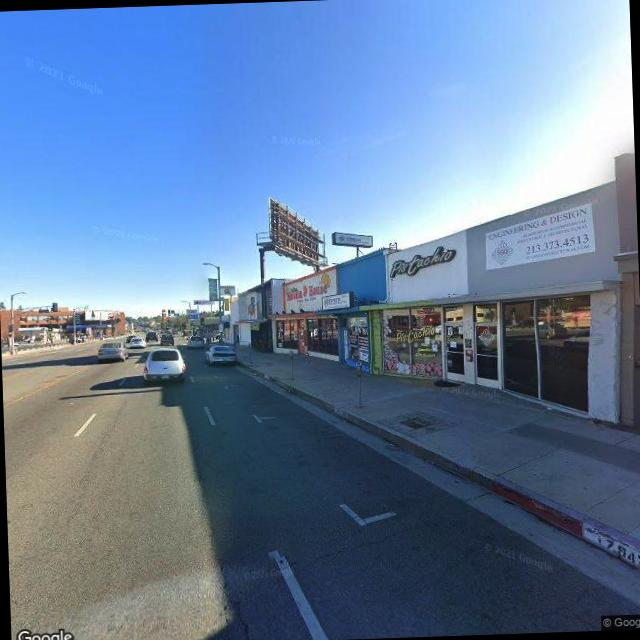crack: (260, 502, 462, 570)
